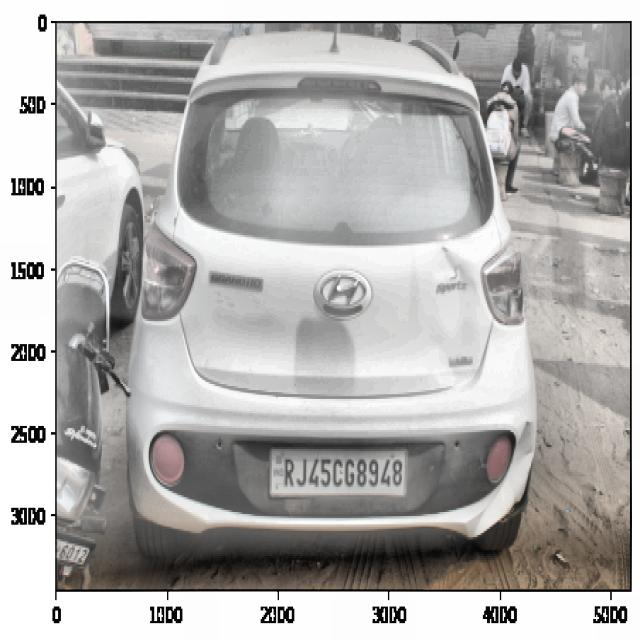license_plate: (278, 447, 406, 503)
